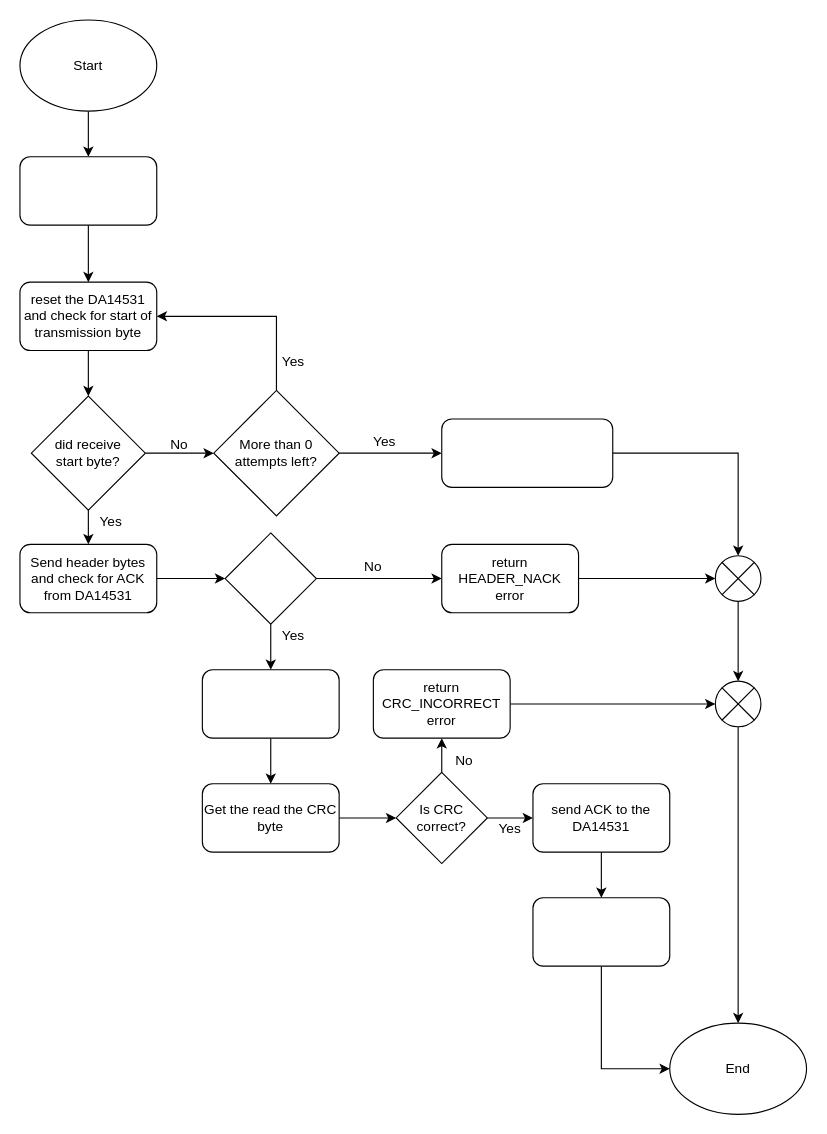
Some shapes in this 827 by 1134 pixel diagram are drawn without their labels. Here are the shapes that lost their labels. From the top down, the centre of each, then its label:
At (88,190): "Calculate the crc for the boot code".
At (527,452): "return NO_BOOT_RESPONSE error".
At (270,578): "received an ACK?".
At (270,703): "Send over all the data bytes to the DA14531".
At (601,931): "return BOOT_OK".
